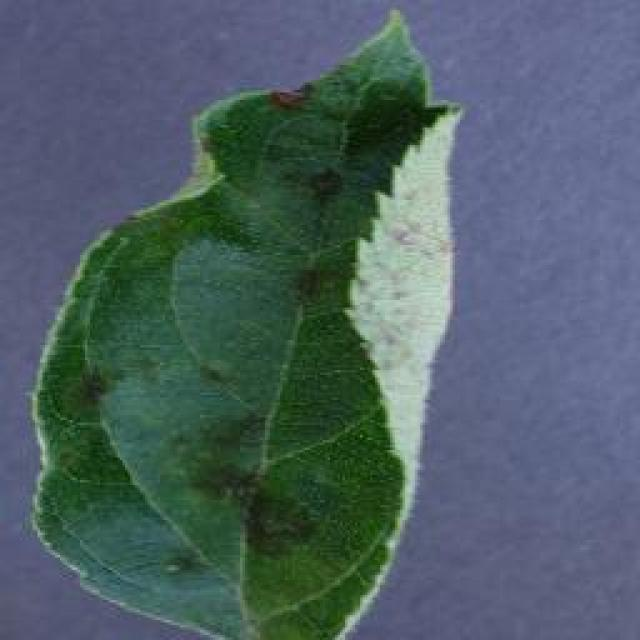apple scab disease: (27, 5, 465, 637)
